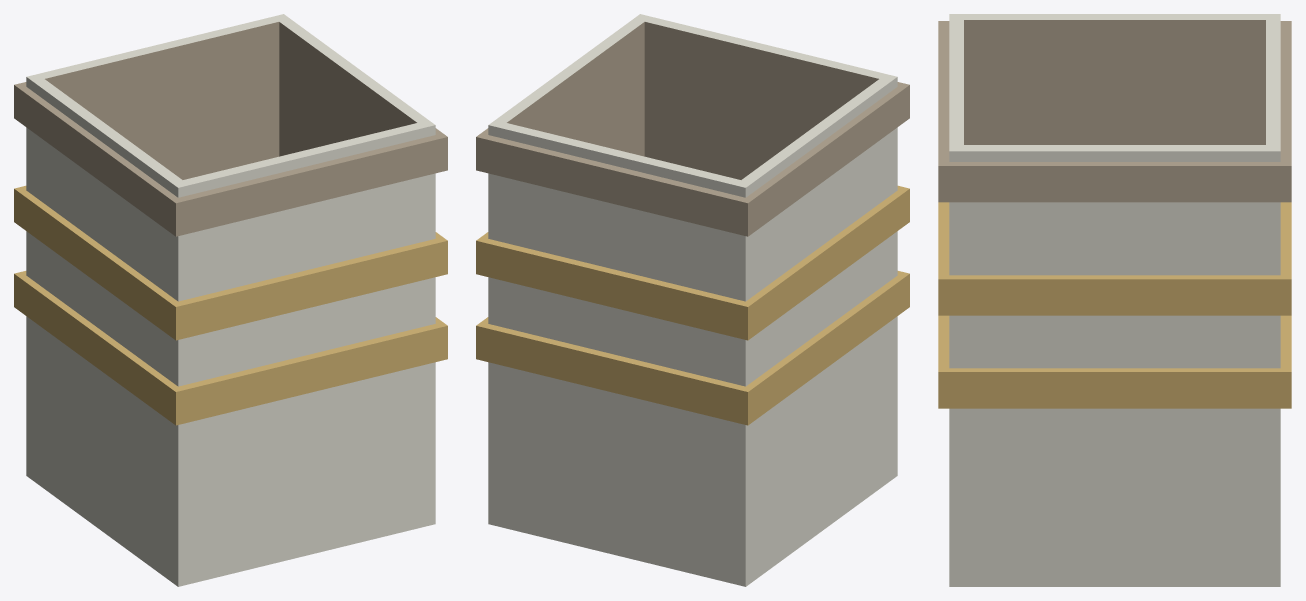
Rendered from props62.fbx.
The picture shows the model from 3 angles, left to right: view 1: azimuth 30°, elevation 25°; view 2: azimuth 150°, elevation 25°; view 3: azimuth 270°, elevation 25°; orthographic projection. The views are drawn at different scales.
Parts seen in each view (by area): view 1: Boole_2; view 2: Boole_2; view 3: Boole_2.
Part boxes in pixels (x1=…): Boole_2: x1=14, y1=14, x2=447, y2=586; Boole_2: x1=476, y1=14, x2=909, y2=586; Boole_2: x1=938, y1=14, x2=1291, y2=586.
Bounding box in the file's own units: 55.63 × 77.98 × 57.33.
